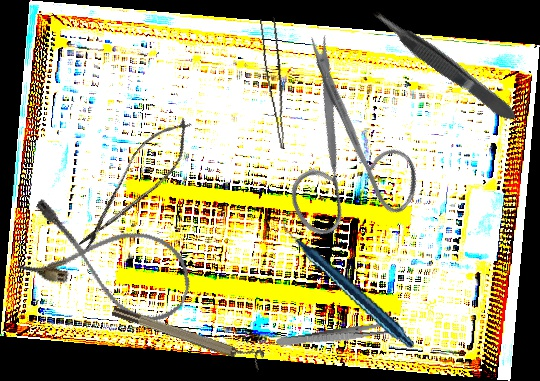Cannula: (11, 192, 203, 333)
Dressing Forceps: (275, 320, 400, 351)
Fixation Ring: (110, 297, 266, 372)
Handpiece: (281, 196, 415, 368)
Iris Scissors: (215, 27, 461, 269)
Micro Scissor: (65, 105, 206, 264)
Tissue Forceps: (366, 2, 521, 129), (255, 16, 300, 150)
